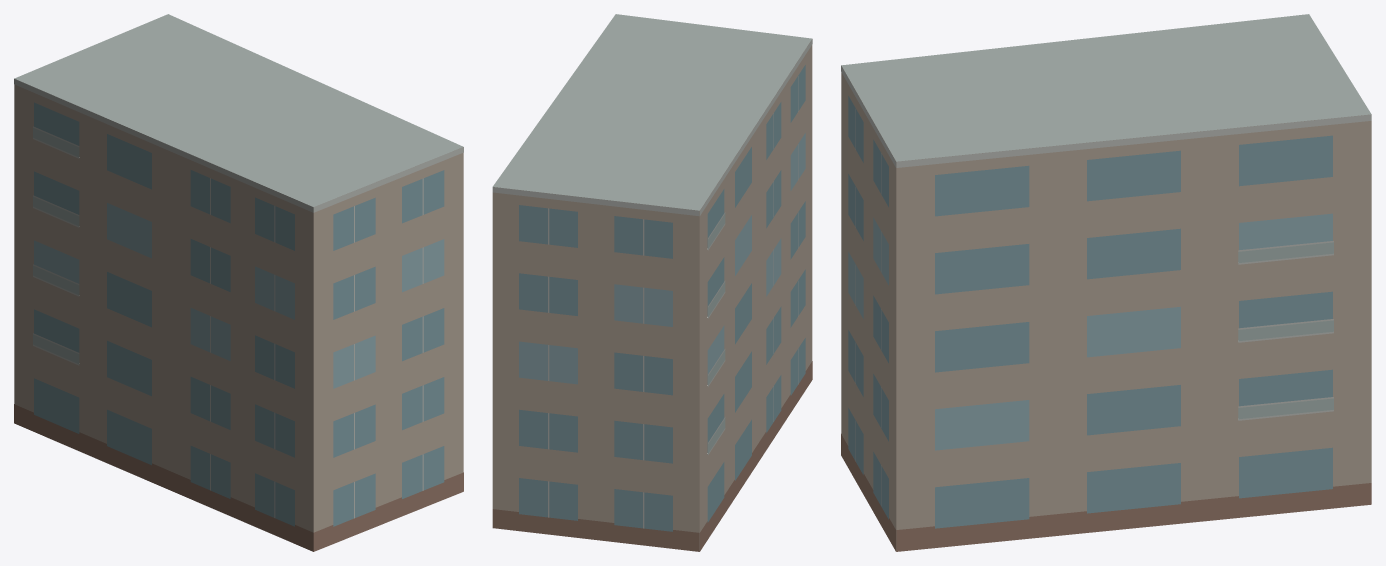
Rendered from survey-upis-32678783.glb.
3 views of the same model, side by side, from view 1: azimuth 30°, elevation 25°; view 2: azimuth 150°, elevation 25°; view 3: azimuth 270°, elevation 25° (orthographic). The views are drawn at different scales.
Parts seen in each view (by area): view 1: survey-upis-32678783.tmp; view 2: survey-upis-32678783.tmp; view 3: survey-upis-32678783.tmp.
Part boxes in pixels (left/top/right/bottom): survey-upis-32678783.tmp: left=14, top=14, right=463, bottom=551; survey-upis-32678783.tmp: left=492, top=14, right=812, bottom=551; survey-upis-32678783.tmp: left=841, top=14, right=1371, bottom=551.
Size of the model in its own units: 12.06 by 14.85 by 18.3.
